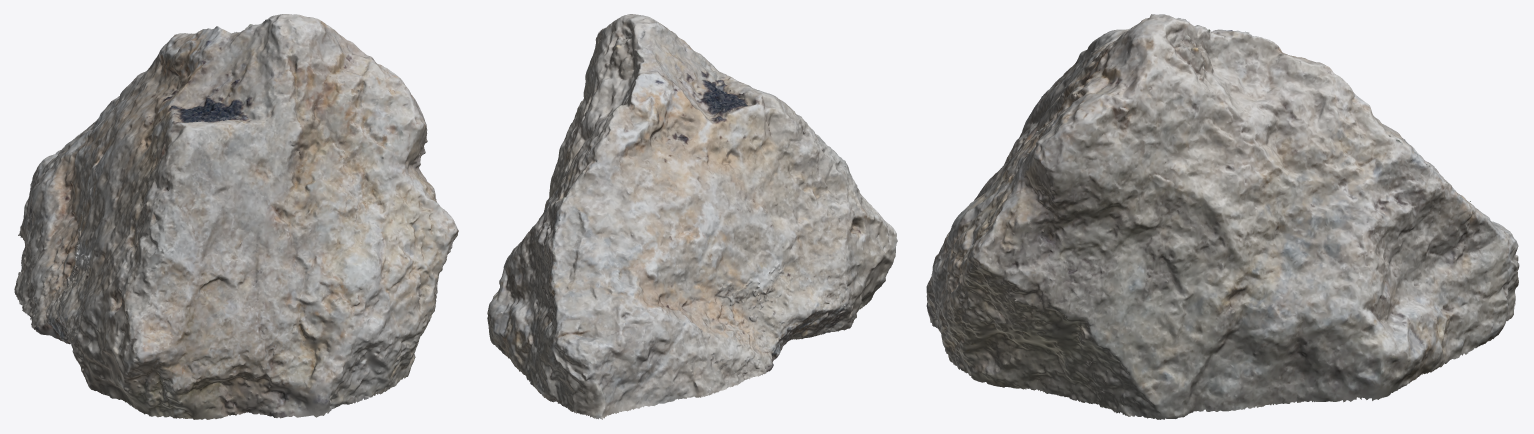
The picture shows the model from 3 angles, left to right: view 1: azimuth 30°, elevation 25°; view 2: azimuth 150°, elevation 25°; view 3: azimuth 270°, elevation 25°; orthographic projection. The views are drawn at different scales.
Visible parts, largest first — view 1: Geode; view 2: Geode; view 3: Geode.
Boxes of the visible parts, box(x1,y1,x2,y2) form: Geode: box(14, 14, 458, 419); Geode: box(487, 14, 897, 419); Geode: box(926, 14, 1519, 419).
Size of the model in its own units: 4.32 by 3.78 by 5.92.
